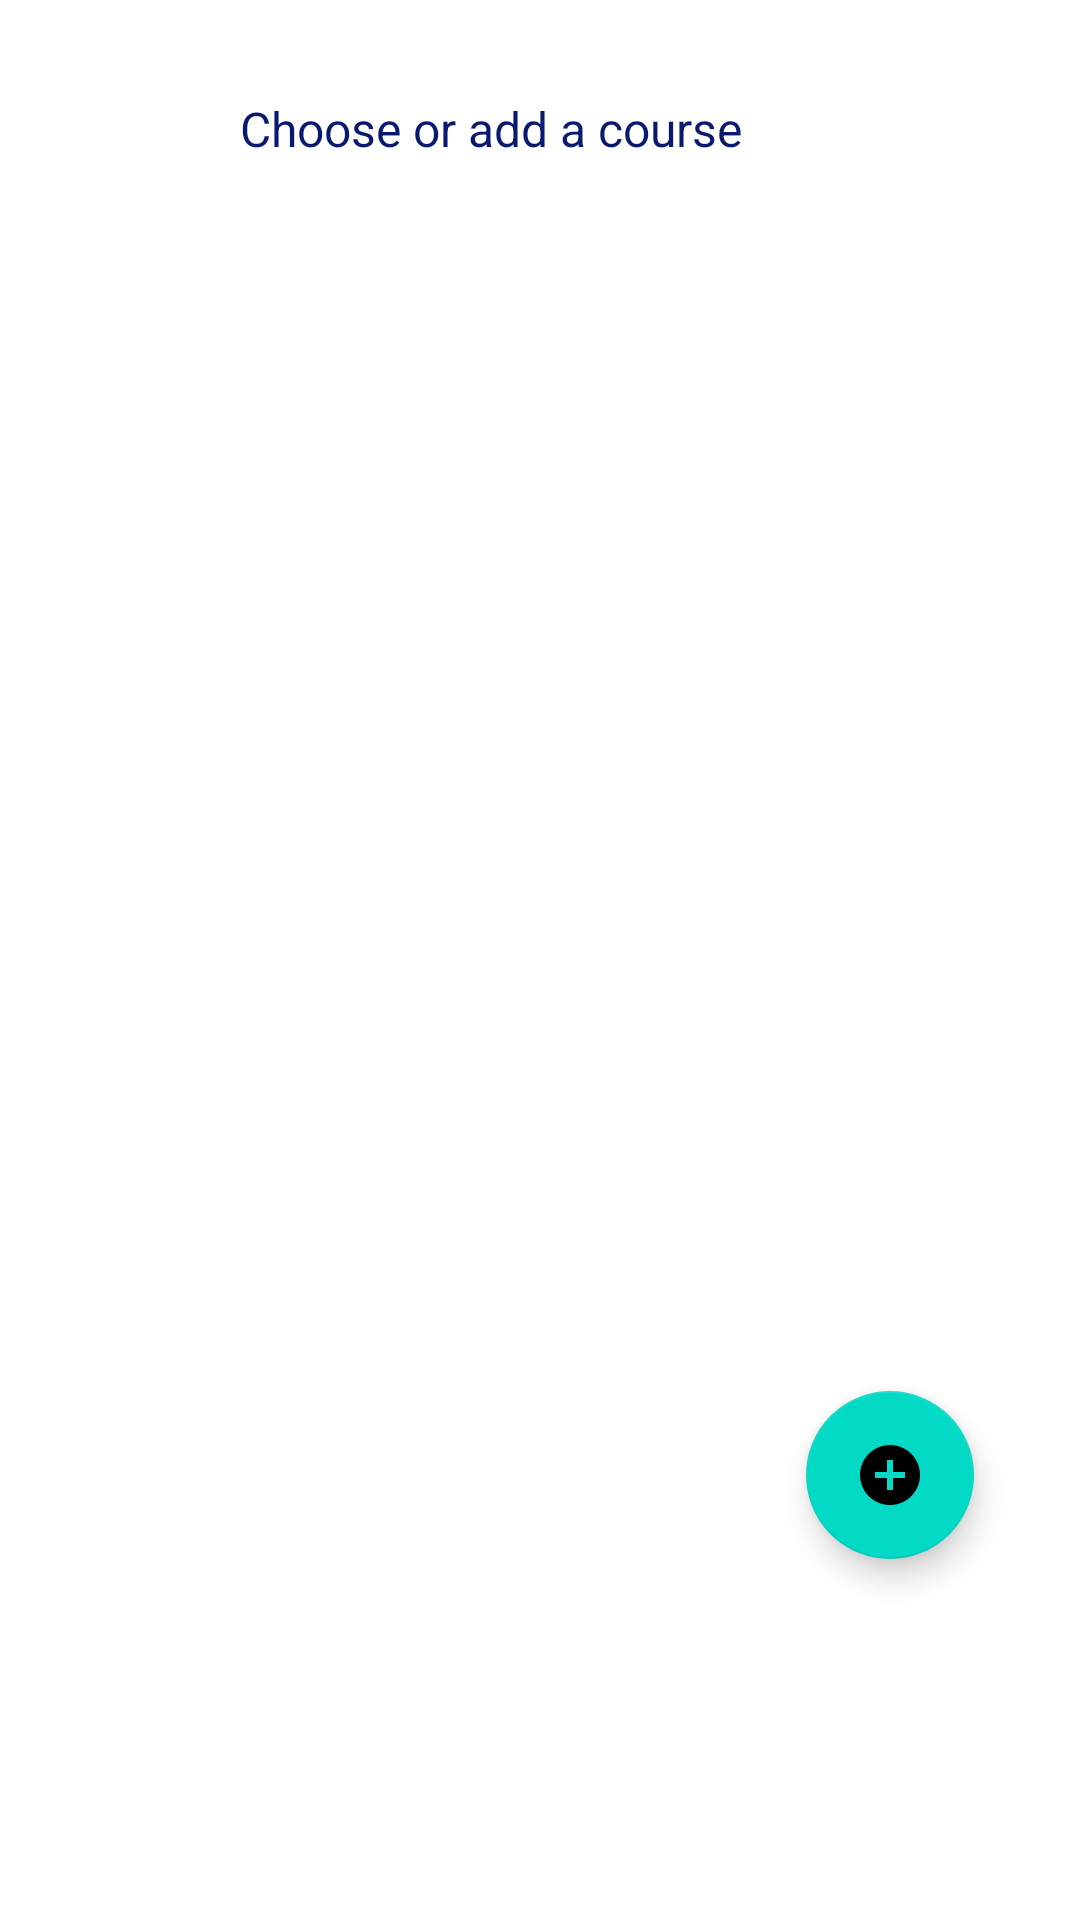

Icons on this 1080w x 1920h Android screen, each with the point to tap as point (x, y):
add circle: point (890, 1475)
